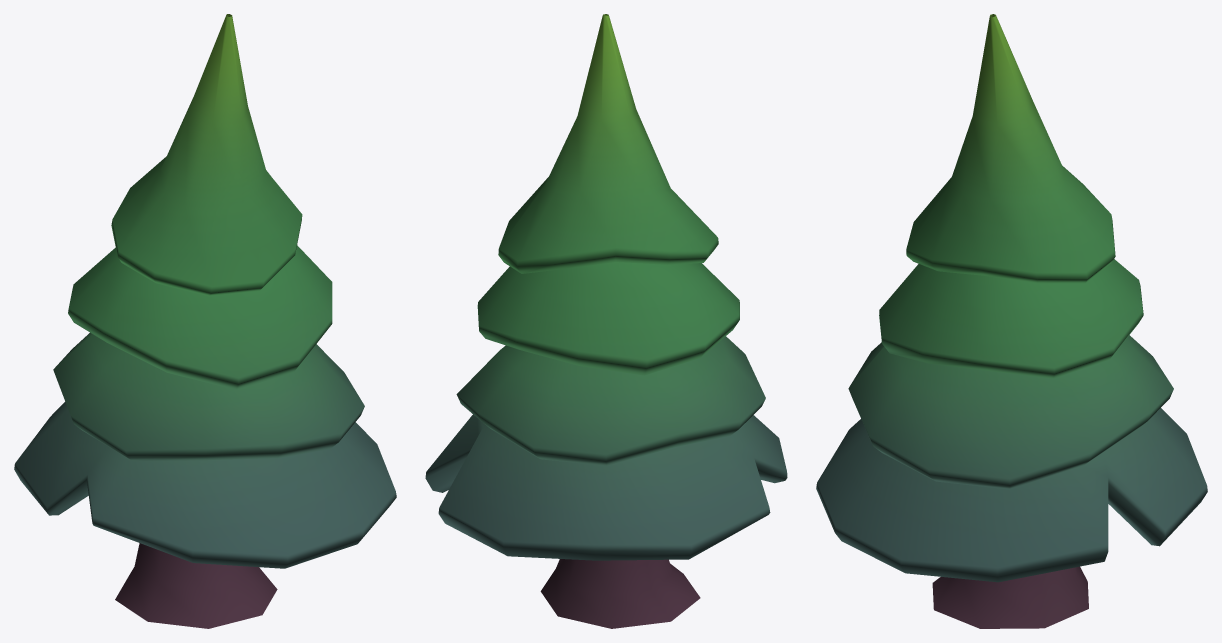
Rendered from tree_pack_09.glb.
The picture shows the model from 3 angles, left to right: view 1: azimuth 30°, elevation 25°; view 2: azimuth 150°, elevation 25°; view 3: azimuth 270°, elevation 25°; orthographic projection. The views are drawn at different scales.
Visible parts, largest first — view 1: Tree.009; view 2: Tree.009; view 3: Tree.009.
Boxes of the visible parts, left/top/right/bottom form: Tree.009: left=14, top=14, right=396, bottom=628; Tree.009: left=425, top=14, right=787, bottom=628; Tree.009: left=816, top=14, right=1207, bottom=628.
Size of the model in its own units: 3.13 by 5.32 by 3.19.
Materials: 1 (1 with a texture image).
